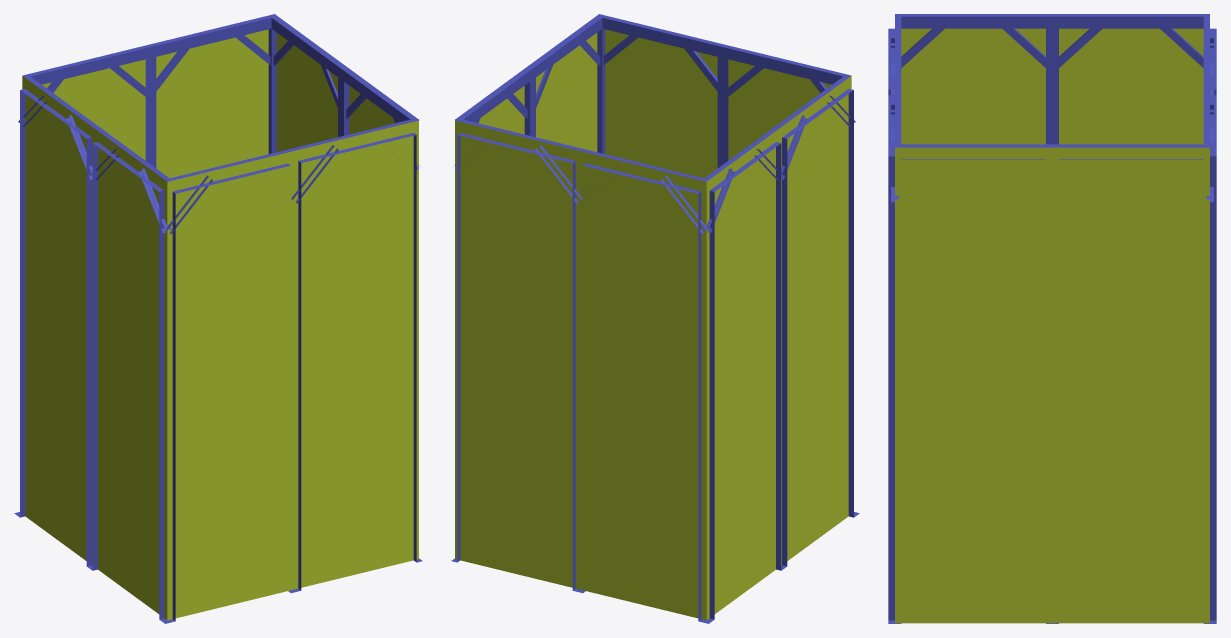
File: Pit_2x2.FBX
The picture shows the model from 3 angles, left to right: view 1: azimuth 30°, elevation 25°; view 2: azimuth 150°, elevation 25°; view 3: azimuth 270°, elevation 25°; orthographic projection. The views are drawn at different scales.
Parts seen in each view (by area): view 1: Pit_2x2; view 2: Pit_2x2; view 3: Pit_2x2.
Part boxes in pixels (box(x1,y1,x2,y2)): Pit_2x2: box(14, 14, 422, 623); Pit_2x2: box(451, 14, 859, 623); Pit_2x2: box(888, 14, 1216, 623).
Size of the model in its own units: 12.36 by 20 by 12.5.
